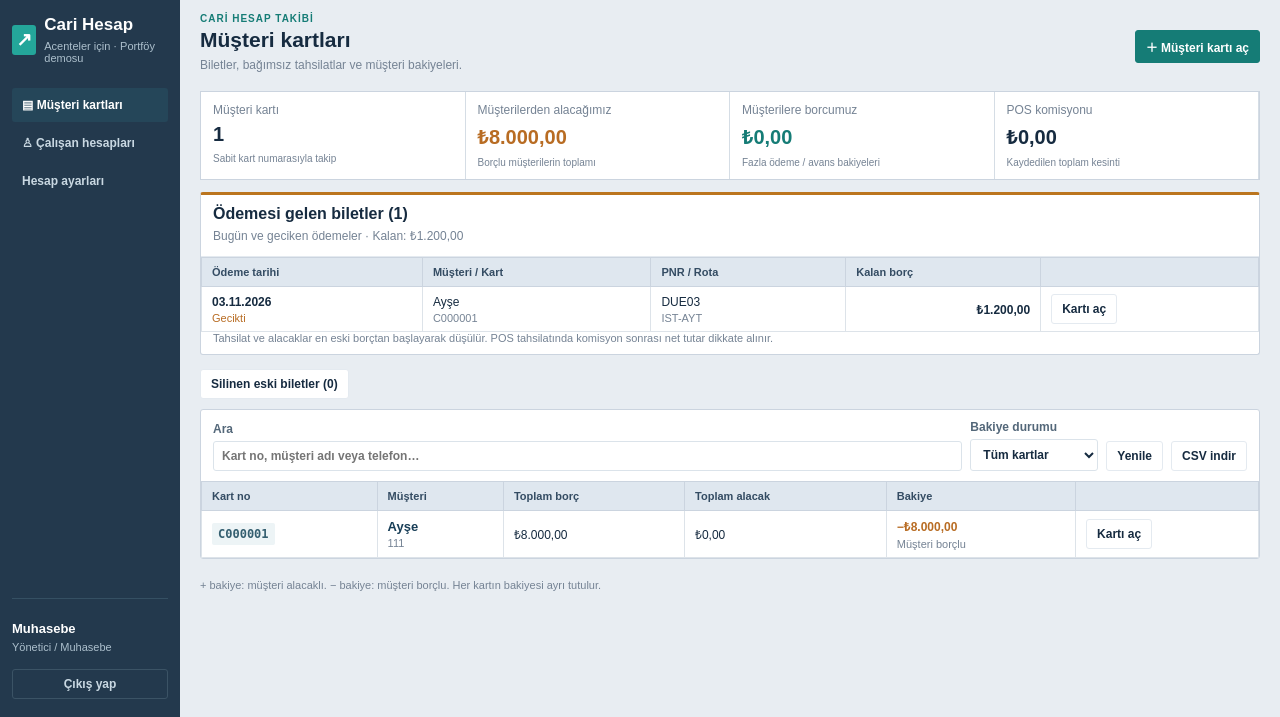
Test: homepage reveals a scheduled debt when its date arrives and opens the customer
Check: the text "C000001" below "03.11.2026" is shown, box left=433, top=312, right=478, bottom=324
Check: the text "DUE03" is shown, box left=661, top=295, right=700, bottom=309
Click the button "Kartı aç" in the row of "03.11.2026": (1084, 309) left=1051, top=294, right=1117, bottom=324
(page scrolled)
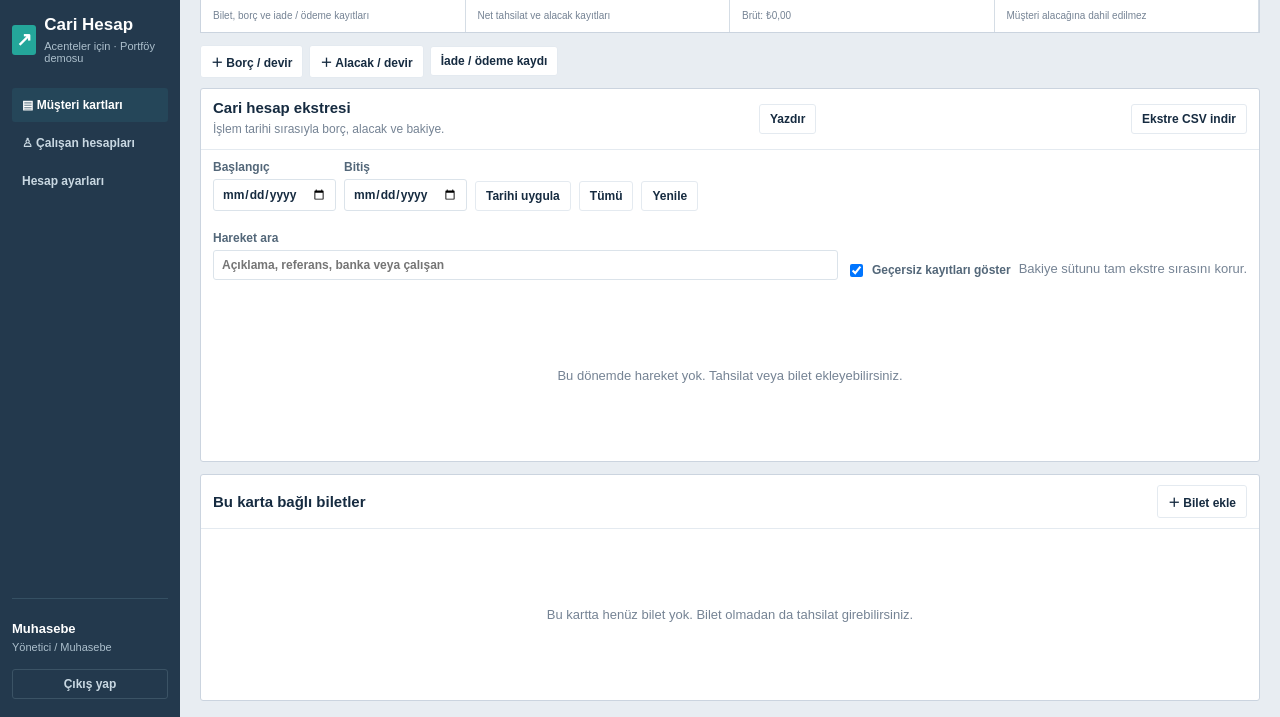
Check: the heading "Bu karta bağlı biletler" is shown, box left=213, top=493, right=366, bottom=510
